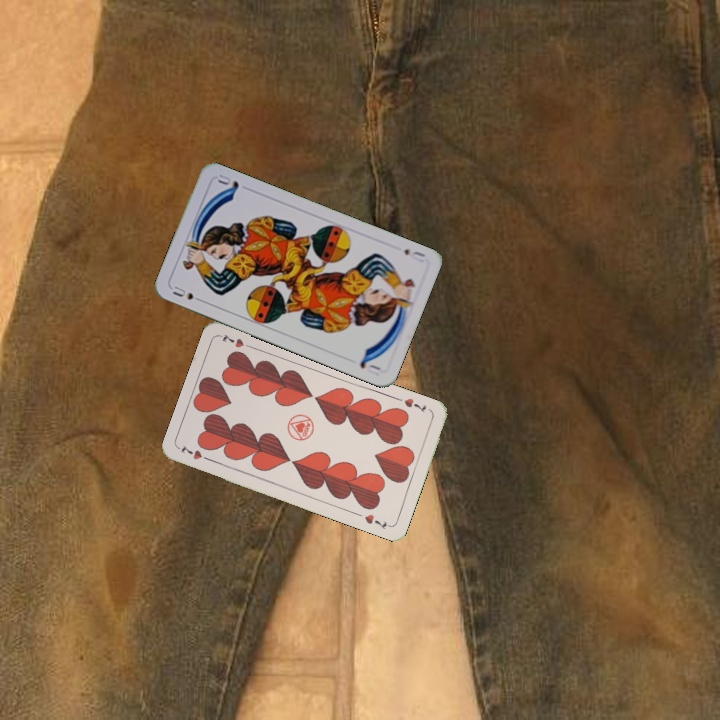H7: (177, 441, 215, 464), (400, 394, 429, 415)
SU: (169, 282, 207, 305), (400, 245, 428, 265)
